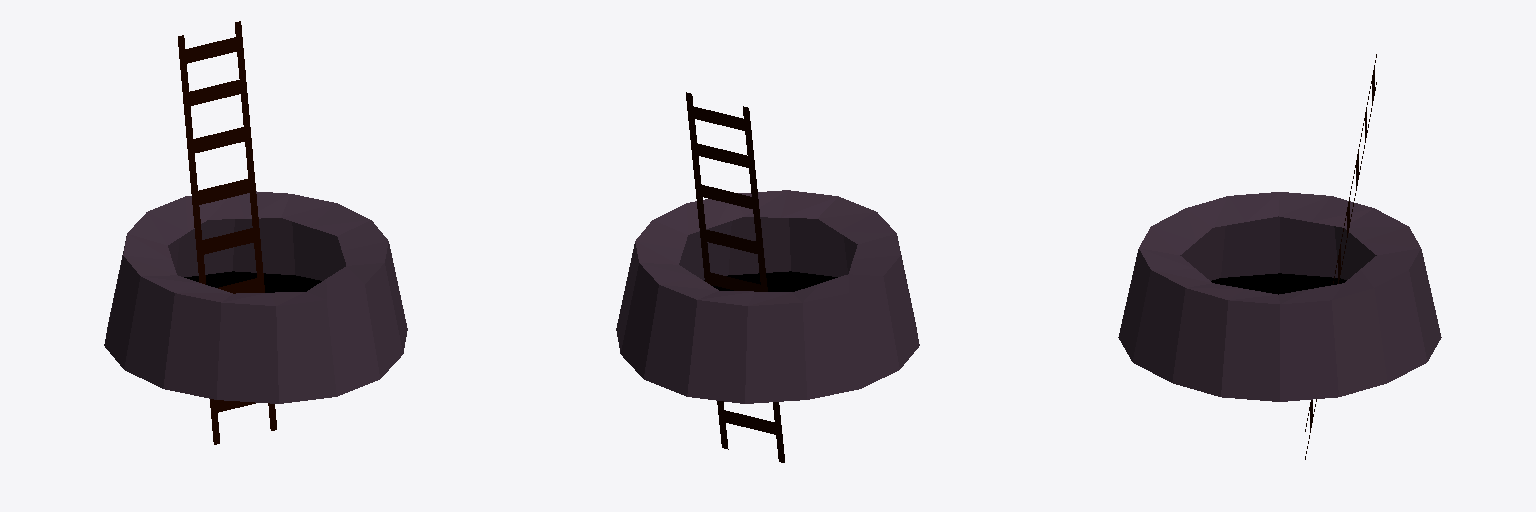
The model's file is mine.obj.
3 renders of one model, left to right at view 1: azimuth 30°, elevation 25°; view 2: azimuth 150°, elevation 25°; view 3: azimuth 270°, elevation 25°, orthographic.
Parts seen in each view (by area): view 1: Cube, Plane.002; view 2: Cube, Plane.002; view 3: Cube, Plane.002.
Boxes of the visible parts, x1=… form: Cube: x1=104, y1=191, x2=407, y2=403; Plane.002: x1=178, y1=21, x2=276, y2=444; Cube: x1=616, y1=190, x2=919, y2=403; Plane.002: x1=686, y1=92, x2=784, y2=462; Cube: x1=1118, y1=192, x2=1441, y2=401; Plane.002: x1=1305, y1=54, x2=1376, y2=459.
Size of the model in its own units: 7.51 by 10.39 by 7.96.